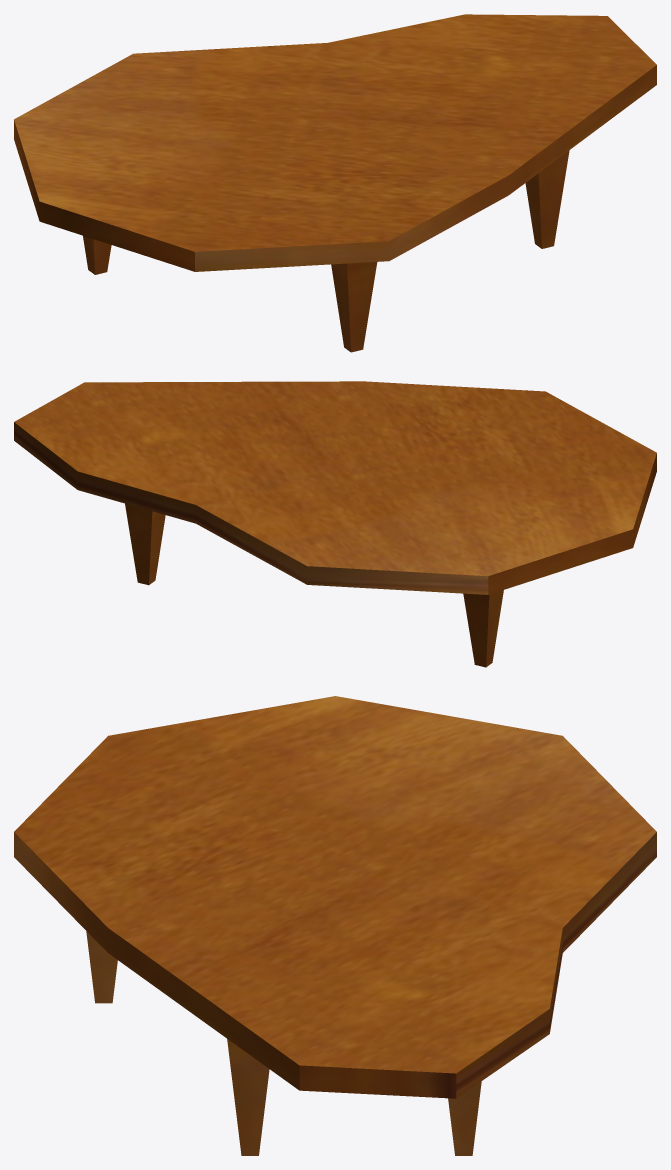
Rendered from table_coffee.fbx.
3 renders of one model, top to bottom at view 1: azimuth 30°, elevation 25°; view 2: azimuth 150°, elevation 25°; view 3: azimuth 270°, elevation 25°, orthographic. The views are drawn at different scales.
Visible parts, largest first — view 1: coffee_table; view 2: coffee_table; view 3: coffee_table.
Part boxes in pixels (box(x1,y1,x2,y2)): coffee_table: box(14, 14, 656, 352); coffee_table: box(14, 381, 656, 667); coffee_table: box(14, 696, 656, 1155).
Size of the model in its own units: 211 by 43.67 by 152.
1 material, 1 textured.
